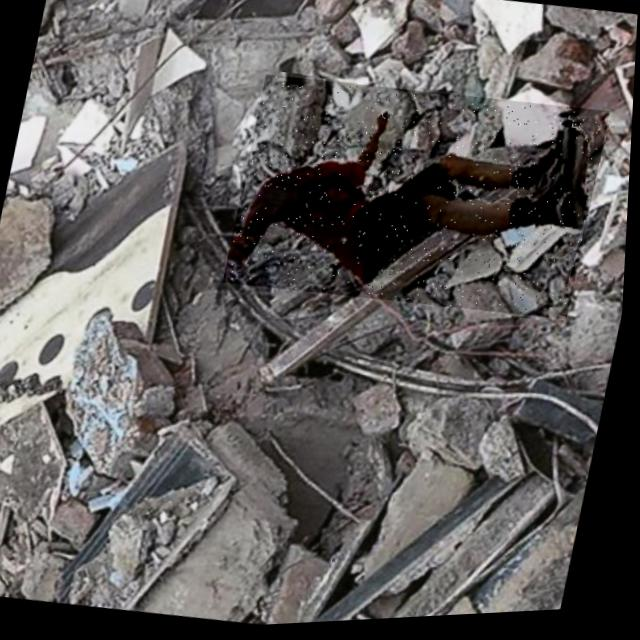Person in Rubble: (224, 62, 614, 339)
